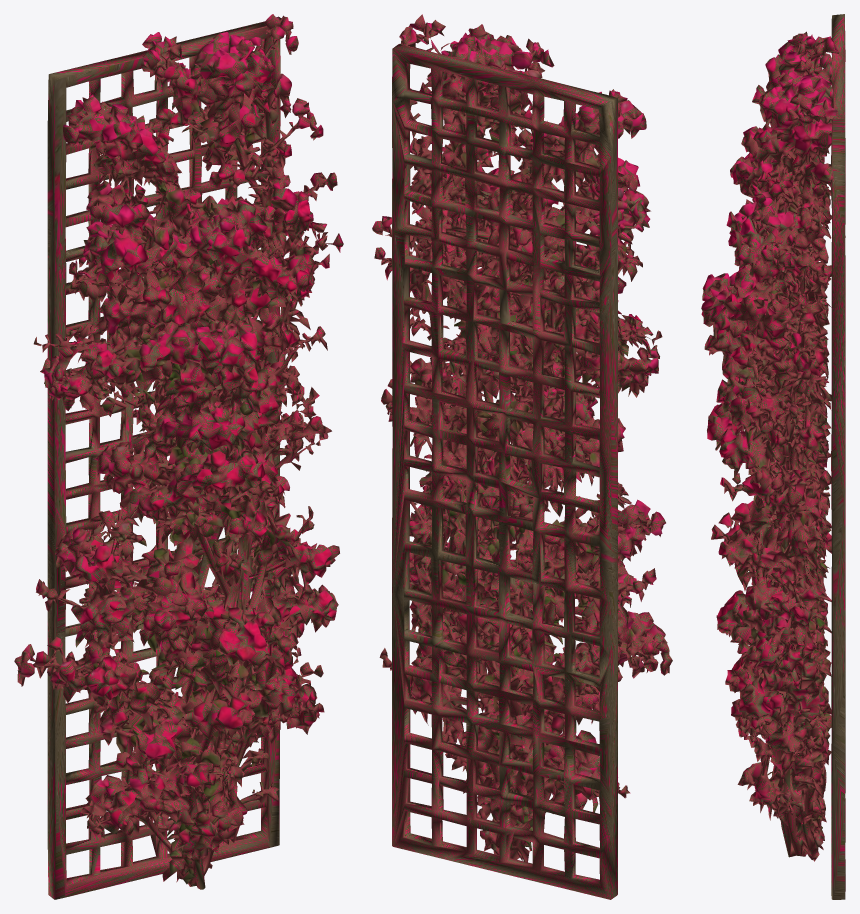
File: trellis.glb
3 views of the same model, side by side, from view 1: azimuth 30°, elevation 25°; view 2: azimuth 150°, elevation 25°; view 3: azimuth 270°, elevation 25° (orthographic). The views are drawn at different scales.
Size of the model in its own units: 0.7389 by 1.9 by 0.3079.
1 material, 1 textured.
